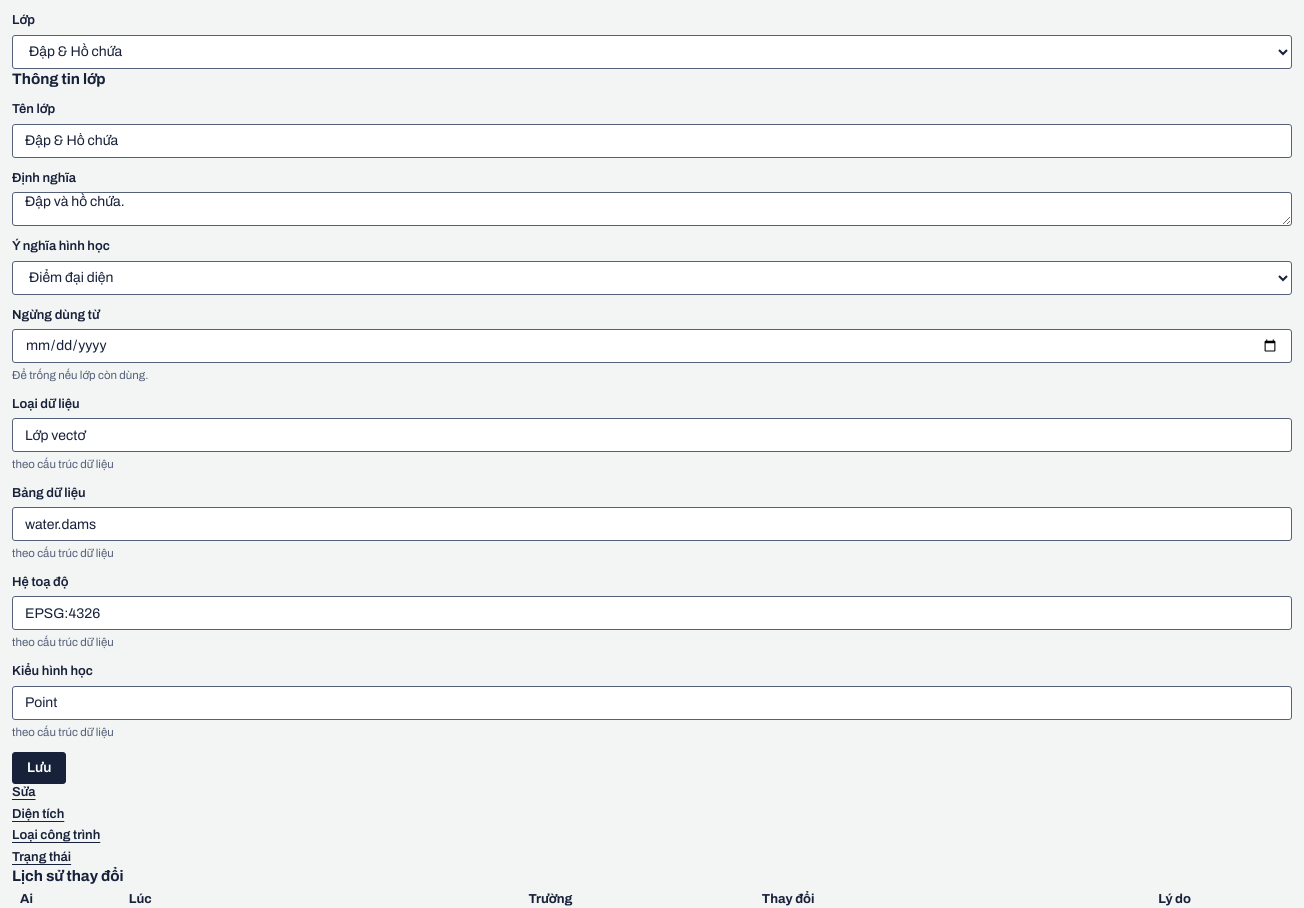
Scenario: dictionary editor › restore sends the field and shows the default again
The image size is (1304, 908).
Click the button "Sửa" at [24, 792], box [12,785,36,799]
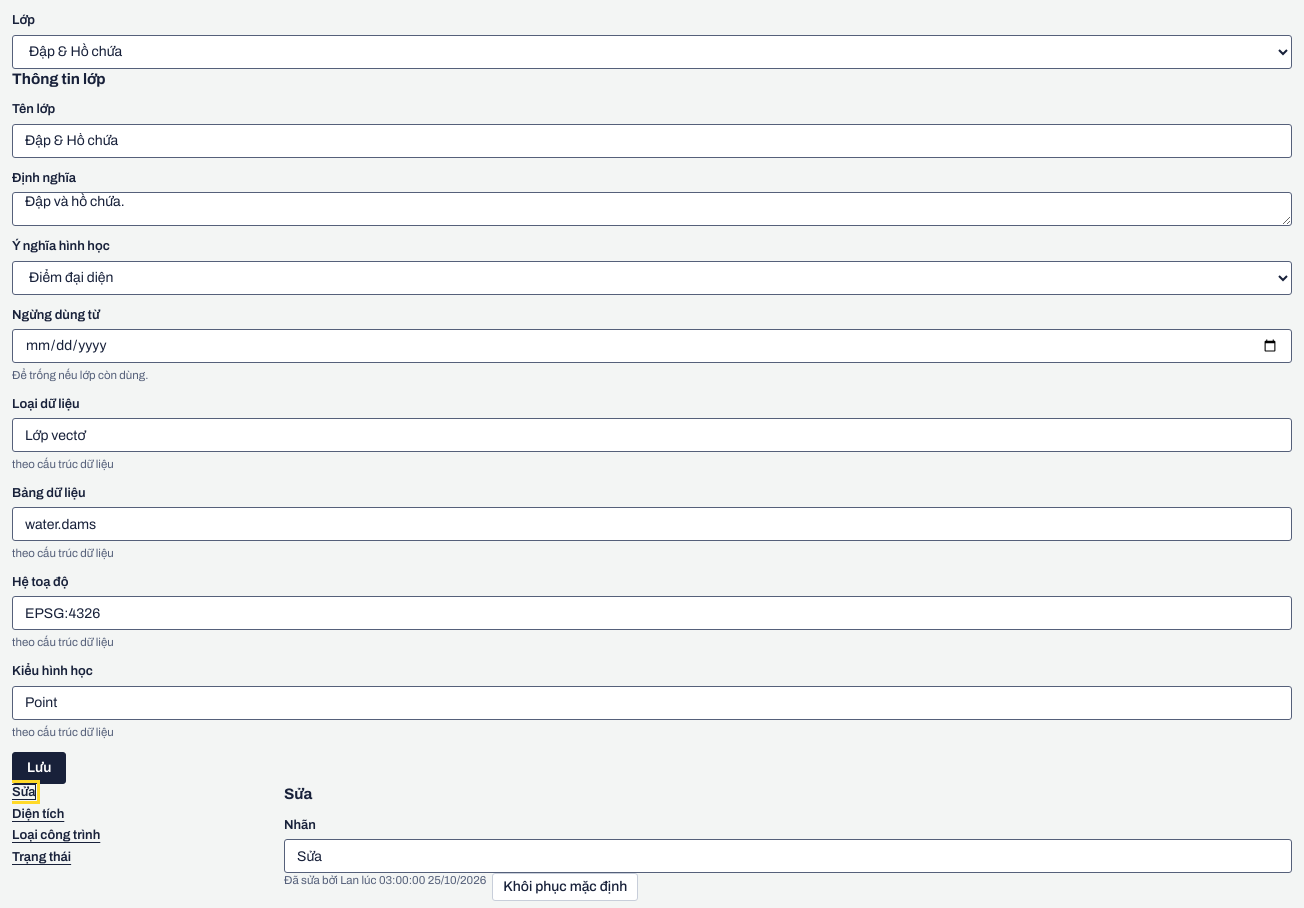
Expected: the text "Đã sửa bởi Lan lúc 03:00:00 25/10/2026 Khôi phục mặc định" is shown, [284,873,638,901]
Expected: the field labelled "Nhãn" holds "Sửa", [284,839,1292,873]
Click the button "Khôi phục mặc định" at [565, 887], box [492,873,638,901]
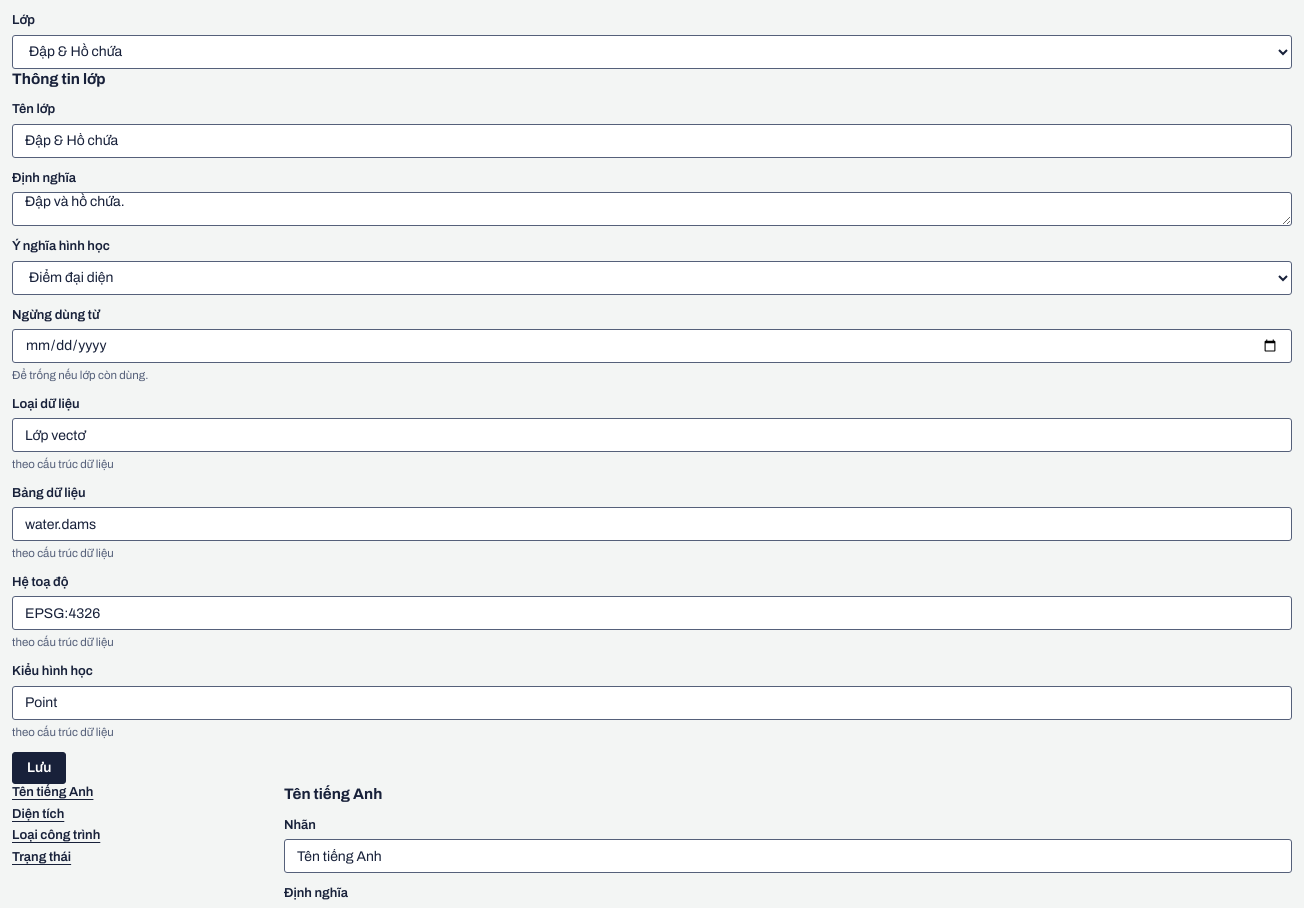
Expected: the field labelled "Nhãn" holds "Tên tiếng Anh", [284,839,1292,873]
Expected: the text "Đã sửa bởi" is gone
